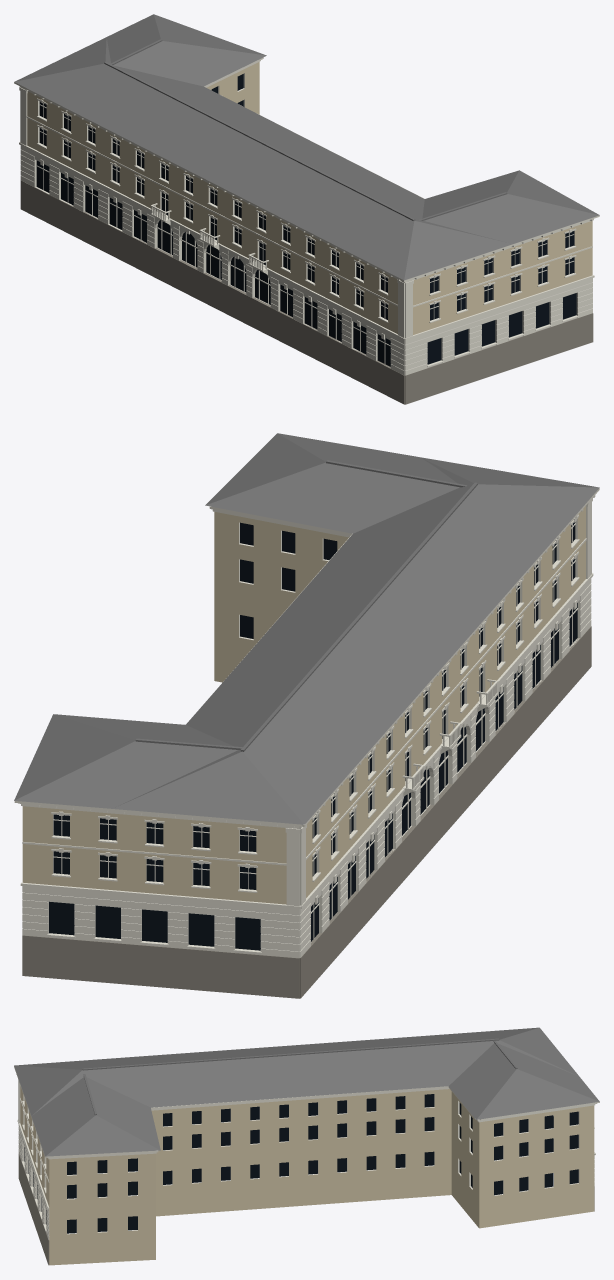
The picture shows the model from 3 angles, top to bottom: view 1: azimuth 30°, elevation 25°; view 2: azimuth 150°, elevation 25°; view 3: azimuth 270°, elevation 25°; orthographic projection. The views are drawn at different scales.
Parts seen in each view (by area): view 1: bm3_roof, bm3_trim, bm3_wall, bm3_stone, bm3_glass, bm3_wall2; view 2: bm3_roof, bm3_wall, bm3_trim, bm3_stone, bm3_glass, bm3_wall2; view 3: bm3_wall, bm3_roof, bm3_glass, bm3_trim, bm3_stone.
Part boxes in pixels (box(x1,y1,x2,y2)): bm3_roof: box(14, 14, 599, 280); bm3_trim: box(14, 57, 599, 375); bm3_wall: box(27, 62, 592, 334); bm3_stone: box(20, 180, 593, 404); bm3_glass: box(36, 74, 576, 366); bm3_wall2: box(21, 149, 592, 370); bm3_roof: box(14, 433, 599, 824); bm3_wall: box(22, 506, 585, 904); bm3_trim: box(14, 488, 599, 958); bm3_stone: box(22, 589, 591, 998); bm3_glass: box(49, 522, 577, 950); bm3_wall2: box(22, 596, 580, 954); bm3_wall: box(20, 1086, 594, 1265); bm3_roof: box(14, 1027, 599, 1156); bm3_glass: box(24, 1094, 578, 1233); bm3_trim: box(14, 1066, 599, 1239); bm3_stone: box(18, 1129, 594, 1265).
Size of the model in its own units: 36.66 by 17.02 by 70.32.
